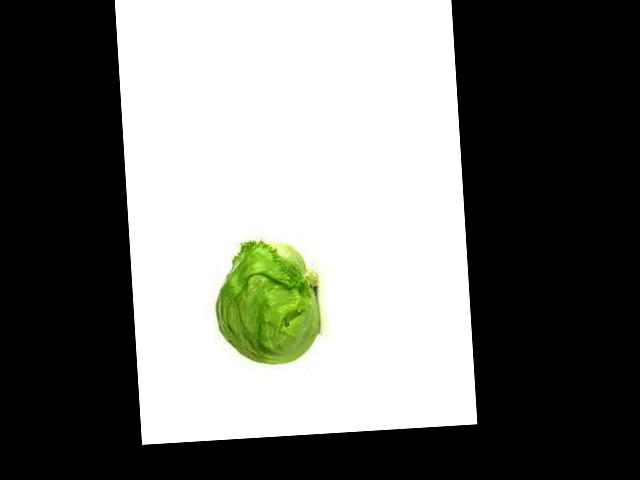lettuce: (163, 272, 316, 360)
